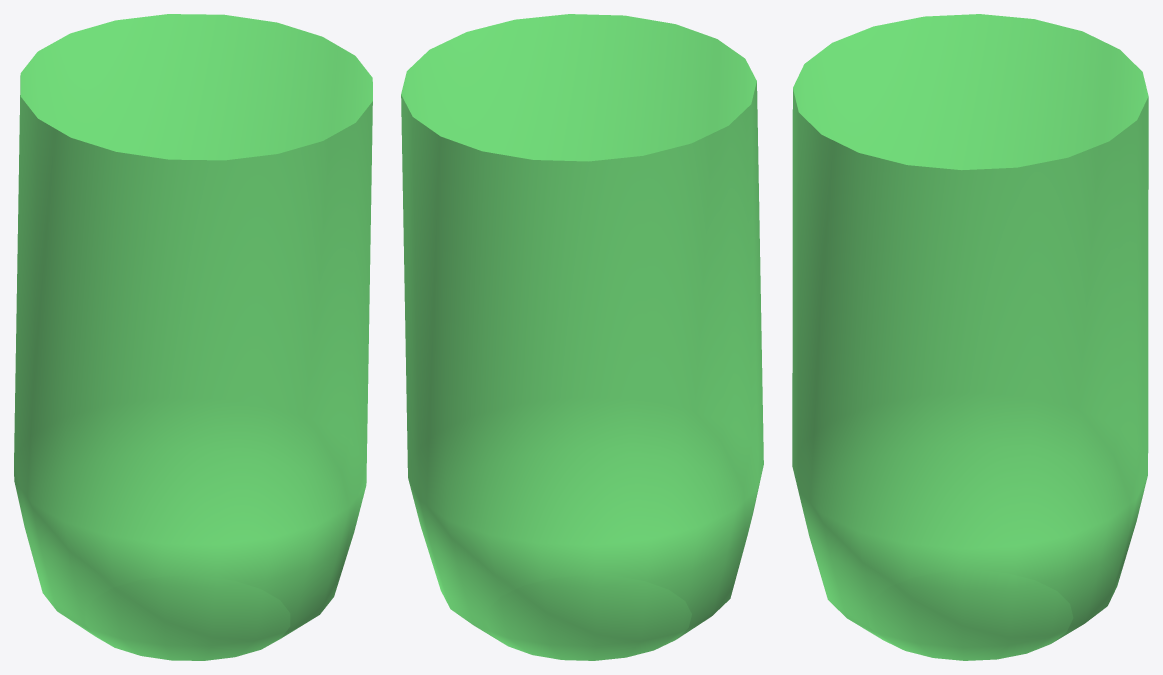
The model's file is Water_Body.fbx.
3 renders of one model, left to right at view 1: azimuth 30°, elevation 25°; view 2: azimuth 150°, elevation 25°; view 3: azimuth 270°, elevation 25°, orthographic.
Parts seen in each view (by area): view 1: pCylinder10; view 2: pCylinder10; view 3: pCylinder10.
Boxes of the visible parts, x1,y1,x2,y2 form: pCylinder10: (14,14,372,660); pCylinder10: (401,14,763,660); pCylinder10: (792,14,1148,660).
Size of the model in its own units: 24.83 by 42.06 by 24.34.
